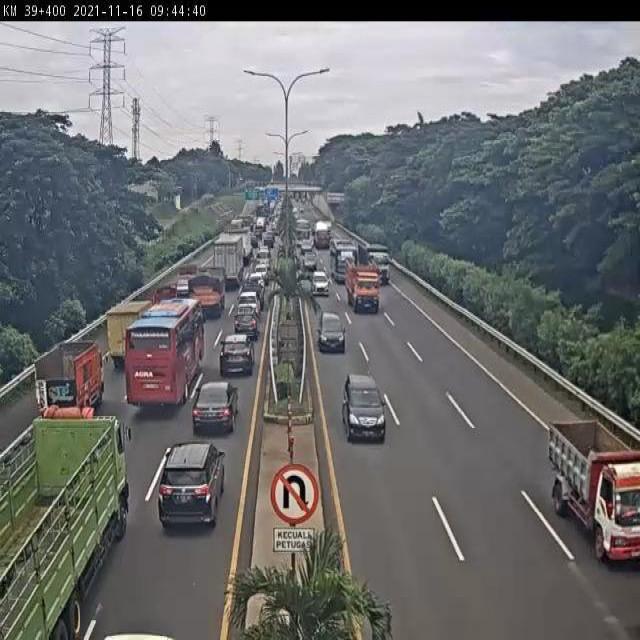big bus: (123, 297, 201, 408)
car: (157, 445, 223, 536), (342, 376, 387, 443), (191, 384, 236, 437), (218, 333, 253, 375), (316, 311, 346, 353), (232, 312, 259, 339), (310, 269, 332, 296), (238, 292, 260, 316)
small truck: (105, 298, 155, 371)
truck-l-: (212, 230, 247, 286)
truck-m-: (0, 413, 134, 640), (546, 419, 640, 565), (35, 339, 105, 412), (185, 267, 226, 316), (347, 263, 382, 312)
